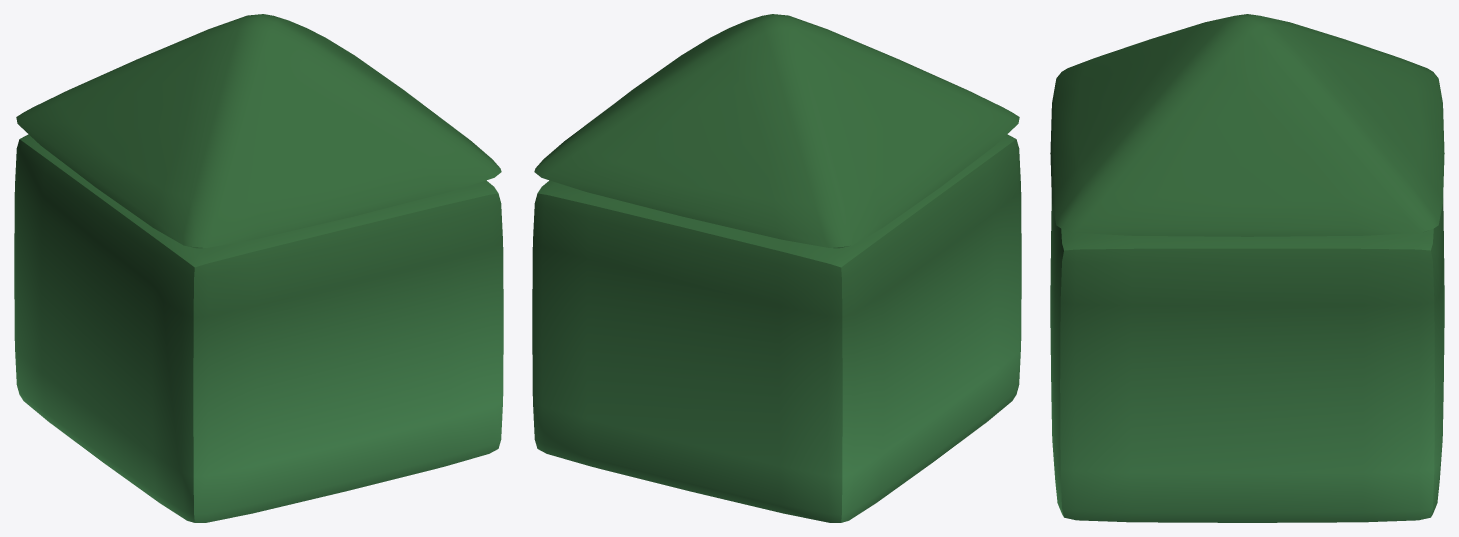
File: house.glb
3 renders of one model, left to right at view 1: azimuth 30°, elevation 25°; view 2: azimuth 150°, elevation 25°; view 3: azimuth 270°, elevation 25°, orthographic. The views are drawn at different scales.
Visible parts, largest first — view 1: House; view 2: House; view 3: House.
Boxes of the visible parts, left/top/right/bottom form: House: left=14, top=14, right=503, bottom=522; House: left=532, top=14, right=1021, bottom=522; House: left=1050, top=14, right=1444, bottom=522.
Bounding box in the file's own units: 0.2192 × 0.2669 × 0.2192.
